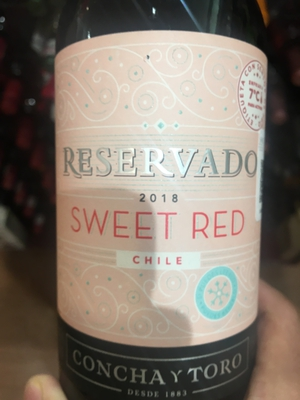reservado sweet red: (47, 13, 282, 398)
